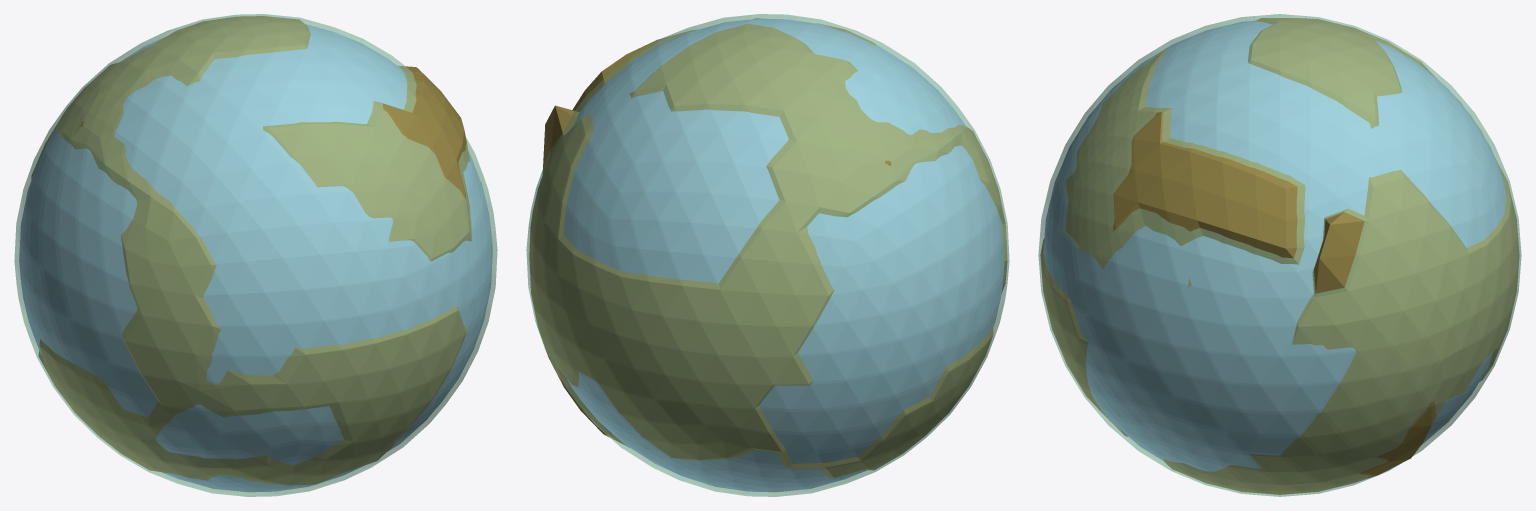
The model's file is SpawnPlanetGreenTest.fbx.
The picture shows the model from 3 angles, left to right: view 1: azimuth 30°, elevation 25°; view 2: azimuth 150°, elevation 25°; view 3: azimuth 270°, elevation 25°; orthographic projection.
Parts seen in each view (by area): view 1: Atmosphere, Planet.001, Planet; view 2: Atmosphere, Planet.001, Planet; view 3: Atmosphere, Planet.001, Planet.
Boxes of the visible parts, box(x1,y1,x2,y2) form: Atmosphere: box(14, 14, 497, 496); Planet.001: box(19, 24, 492, 492); Planet: box(31, 16, 482, 485); Atmosphere: box(526, 14, 1009, 496); Planet.001: box(563, 18, 1004, 492); Planet: box(529, 18, 1007, 477); Atmosphere: box(1038, 14, 1521, 496); Planet.001: box(1043, 20, 1506, 471); Planet: box(1040, 18, 1519, 494).
Size of the model in its own units: 1834 by 1834 by 1834.
